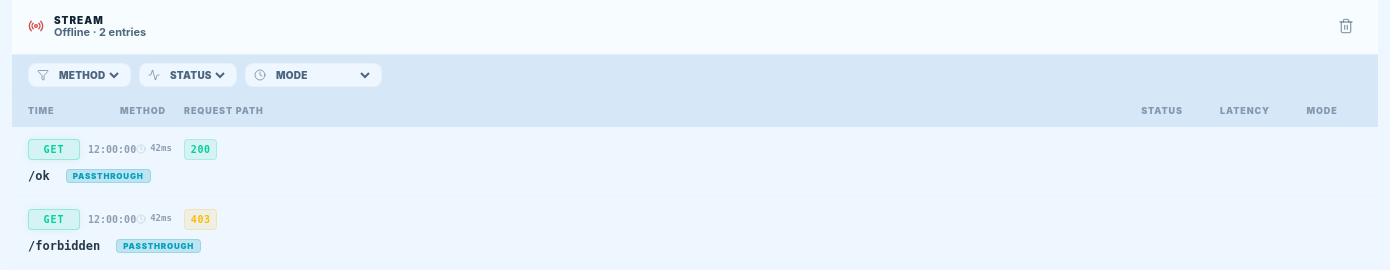
Scenario: ActivityFeed › filters by 4xx status codes
Select "4xx" in the 2nd dropdown at (197, 75), box [166,68,228,82]
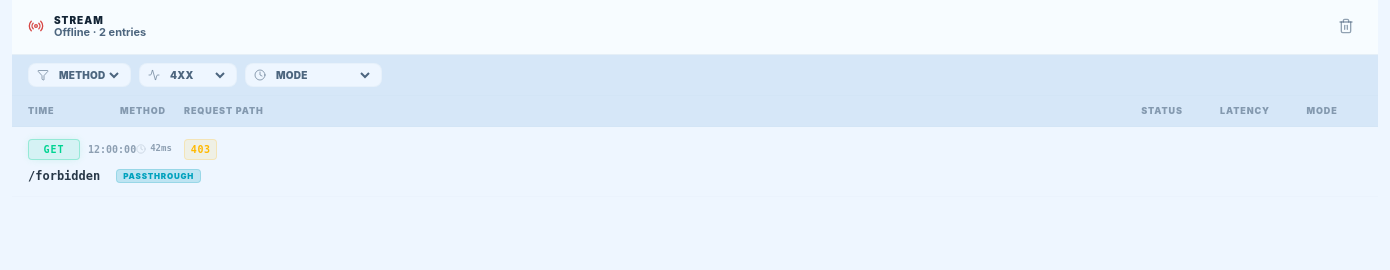
Expected: the text "/forbidden" is shown, [28,168,100,184]
Now the button "/ok" is gone
